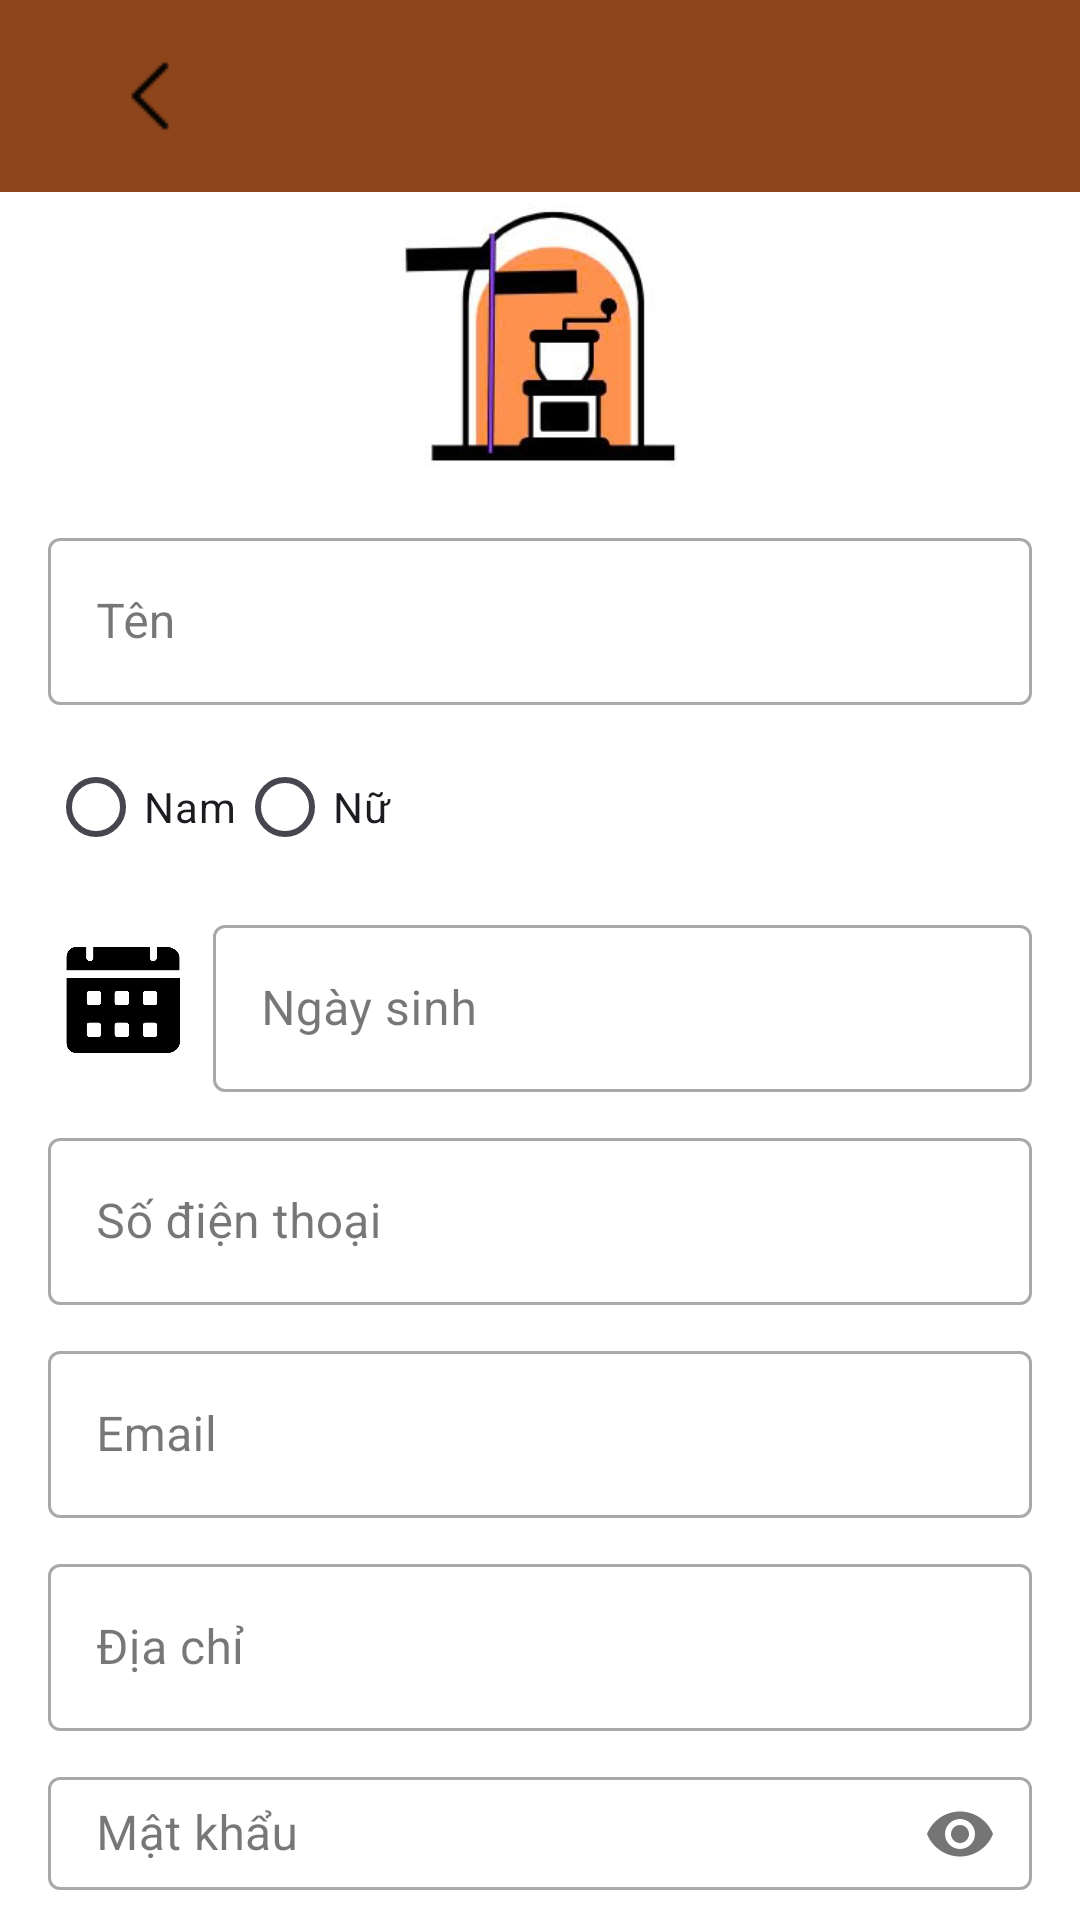

Where icons sit on this 1080w x 1920h app screen, as bbox=[x1, y1, x2, y2]:
calendar: bbox=[66, 947, 180, 1053]
